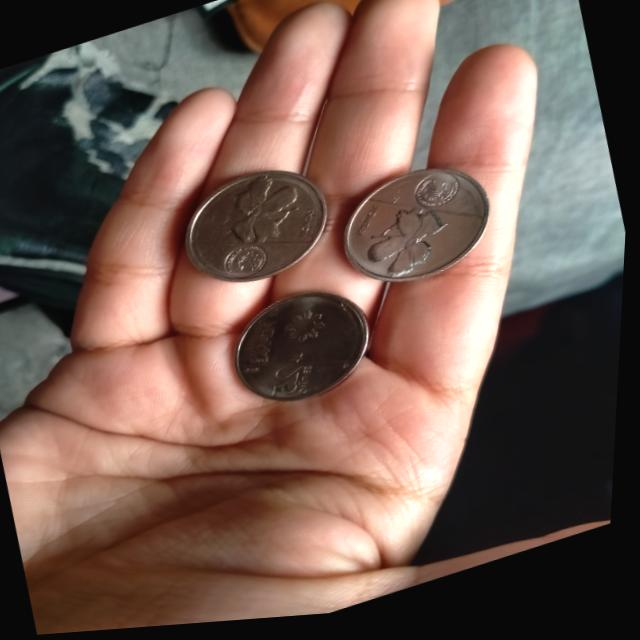25Cent_New_Back: (359, 207, 462, 291), (217, 177, 311, 257)
25Cent_New_Front: (266, 364, 324, 410)
